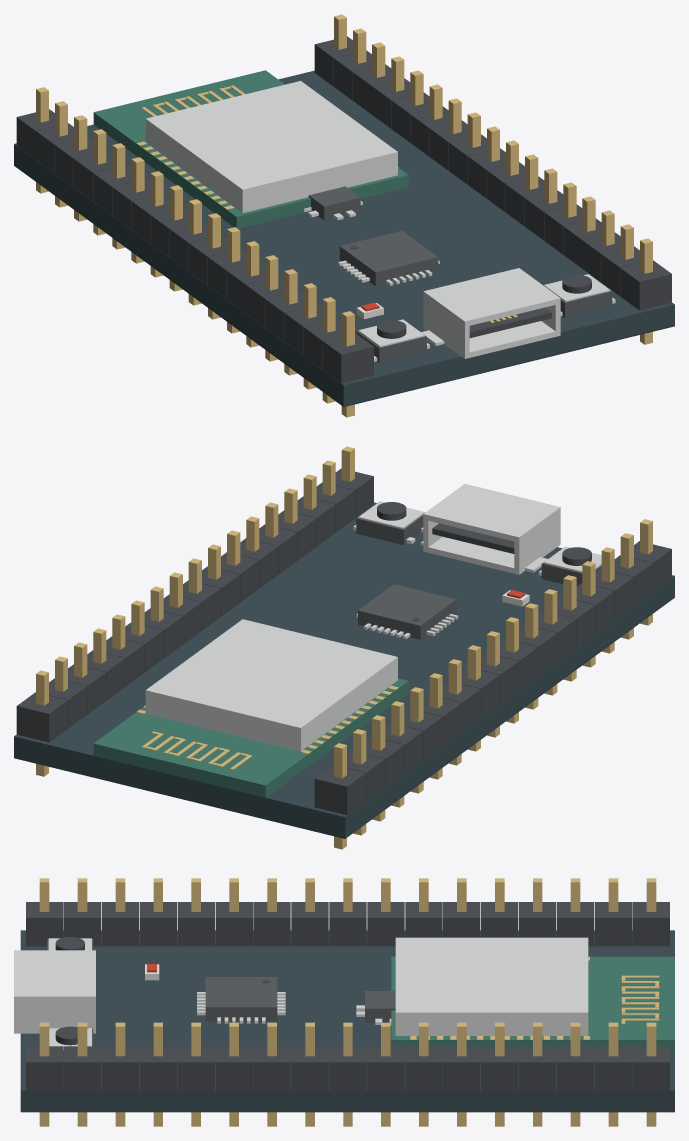
The model's file is esp32-devkitm-1.glb.
3 views of the same model, one above another, from view 1: azimuth 30°, elevation 25°; view 2: azimuth 150°, elevation 25°; view 3: azimuth 270°, elevation 25° (orthographic).
Parts seen in each view (by area): view 1: PCB, U4, J1, J3, J2, U3, SW1, SW2, U2; view 2: PCB, U4, J1, J3, J2, U3, SW2, SW1; view 3: PCB, J3, J1, U4, J2, U3, U2, SW2, SW1.
Part boxes in pixels (left/top/right/bottom): PCB: left=14, top=70, right=674, bottom=406; U4: left=93, top=70, right=408, bottom=228; J1: left=16, top=87, right=373, bottom=417; J3: left=314, top=14, right=671, bottom=344; J2: left=421, top=268, right=560, bottom=358; U3: left=338, top=231, right=439, bottom=286; SW1: left=356, top=319, right=429, bottom=363; SW2: left=544, top=274, right=615, bottom=317; U2: left=303, top=186, right=362, bottom=220; PCB: left=14, top=502, right=674, bottom=838; U4: left=93, top=619, right=408, bottom=797; J1: left=314, top=519, right=671, bottom=849; J3: left=16, top=446, right=373, bottom=776; J2: left=420, top=484, right=560, bottom=574; U3: left=356, top=584, right=458, bottom=639; SW2: left=353, top=501, right=424, bottom=545; SW1: left=538, top=546, right=601, bottom=586; PCB: left=20, top=930, right=674, bottom=1112; J3: left=26, top=1022, right=669, bottom=1126; J1: left=26, top=878, right=669, bottom=946; U4: left=391, top=937, right=674, bottom=1052; J2: left=14, top=950, right=95, bottom=1033; U3: left=197, top=977, right=285, bottom=1023; U2: left=356, top=991, right=395, bottom=1024; SW2: left=49, top=1026, right=93, bottom=1066; SW1: left=47, top=937, right=93, bottom=950.
Size of the model in its own units: 0.0254 by 0.0074 by 0.0443.
